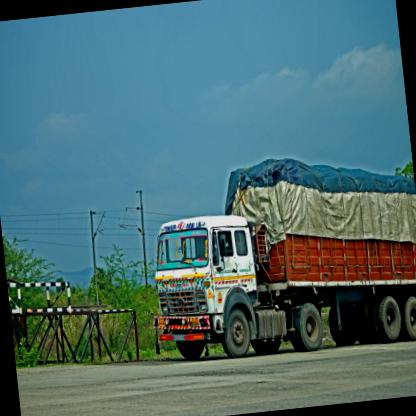truck: (144, 143, 415, 365)
